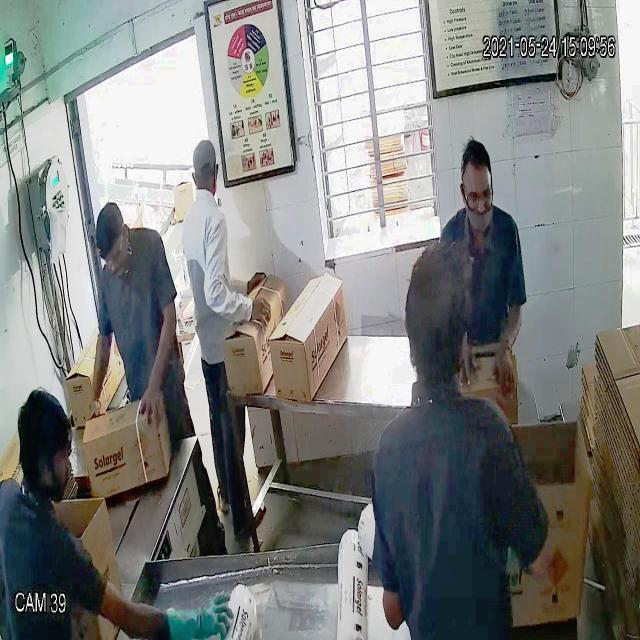glasses: (461, 174, 493, 215), (98, 234, 128, 268)
